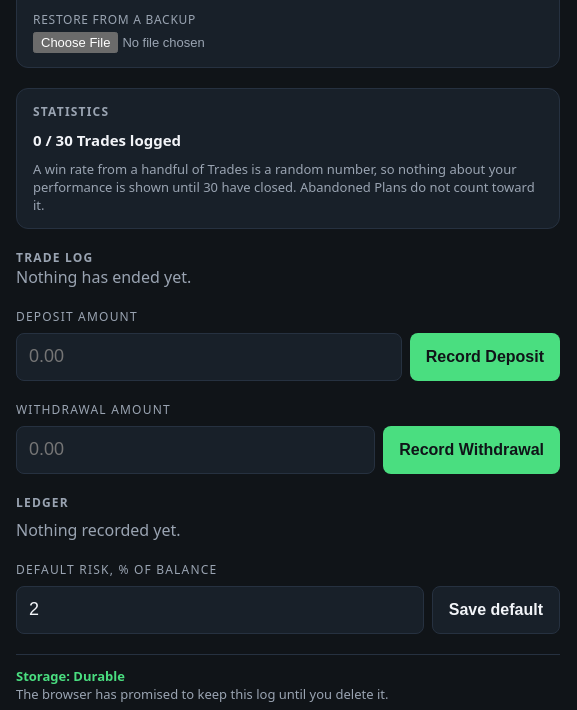
Test: the account screen › records a Deposit and shows it in the Ledger against the new Balance
The width and height of the screenshot is (577, 710).
(page scrolled)
Type "30" into the number field labelled "Deposit amount" at (209, 357), box [16, 333, 402, 381]
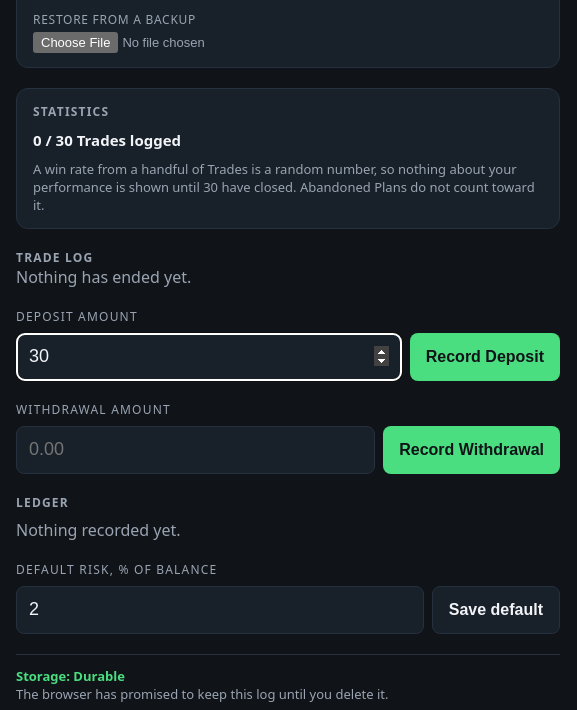
Click the button "Record Deposit" at (485, 357), box [410, 333, 560, 381]
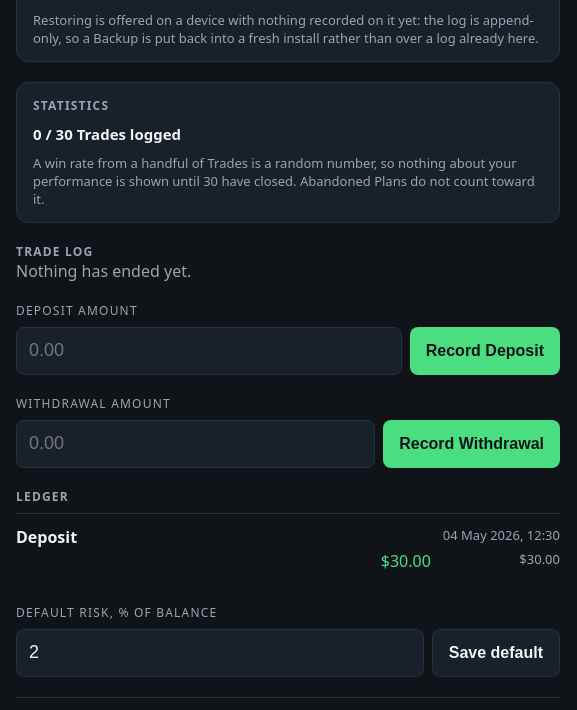
Expected: the list item shows "Deposit", [16, 526, 77, 548]
Expected: the list item shows "$30.00", [381, 550, 431, 572]
